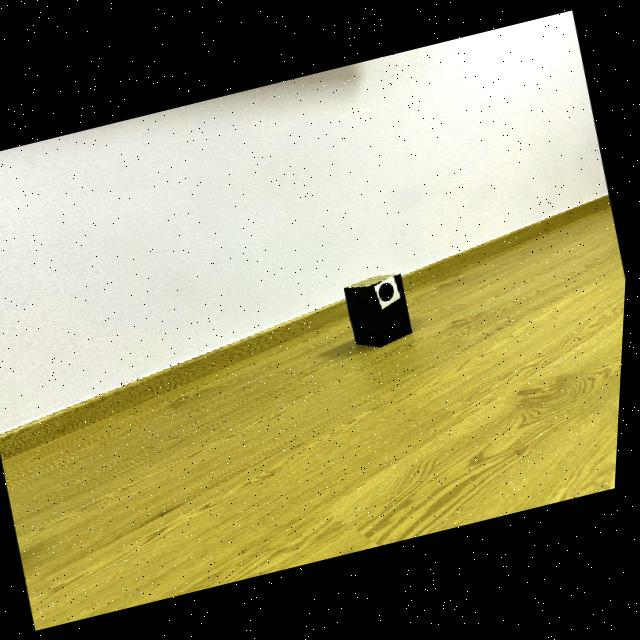CIRCLE: (382, 282, 398, 301)
